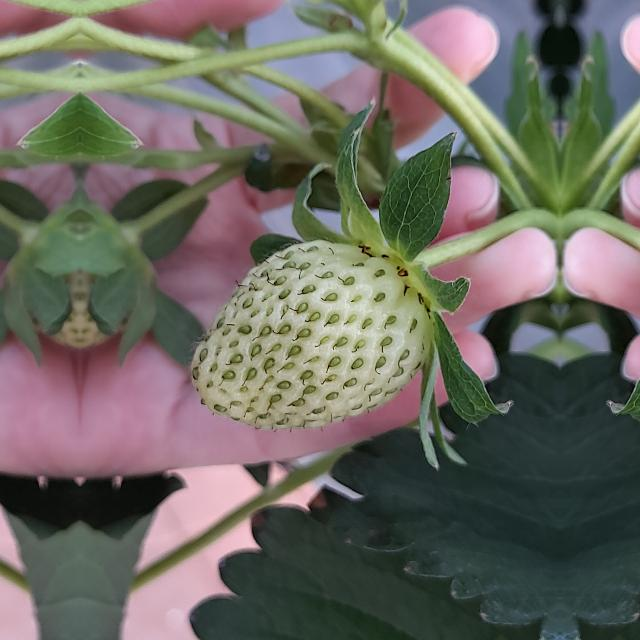Health_25: (185, 236, 435, 432)
